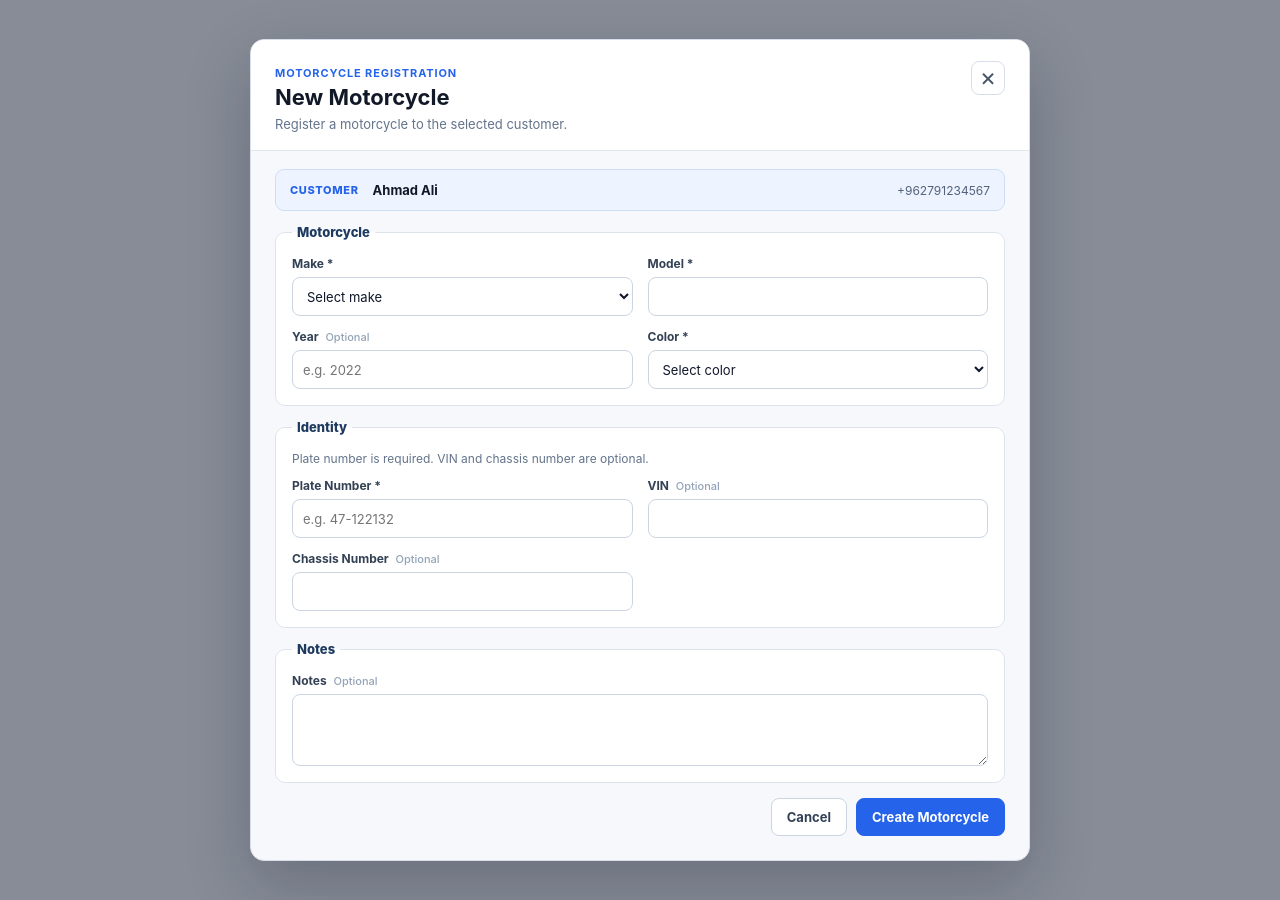
Test: NewMotorcycleDialog › rejects malformed plate ABC123 and highlights the field
The image size is (1280, 900).
Select "Honda" in the dropdown labelled "Make": (462, 297) [292,277,632,316]
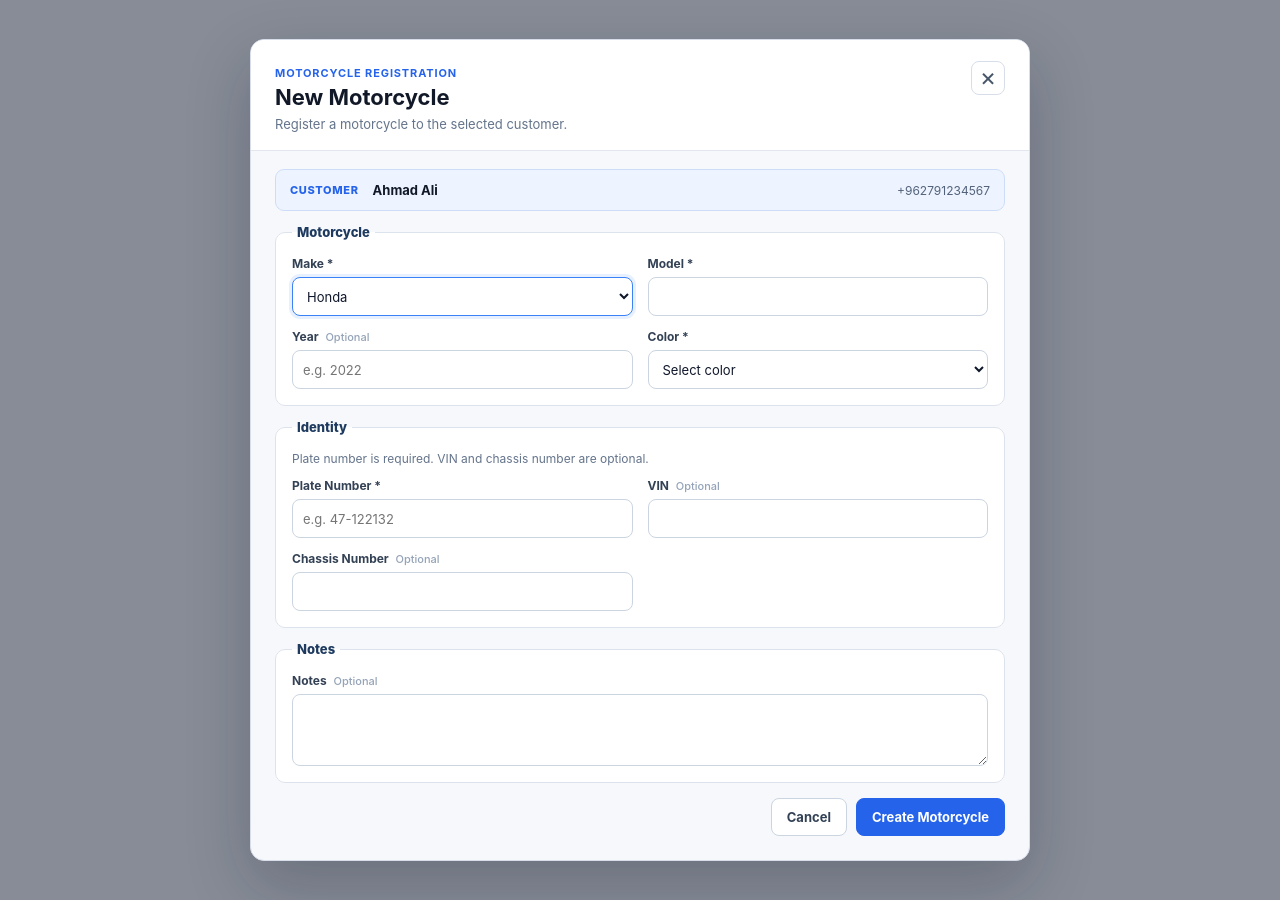
In the field labelled "Model": (818, 297) [648,277,988,316], type "CB150R"
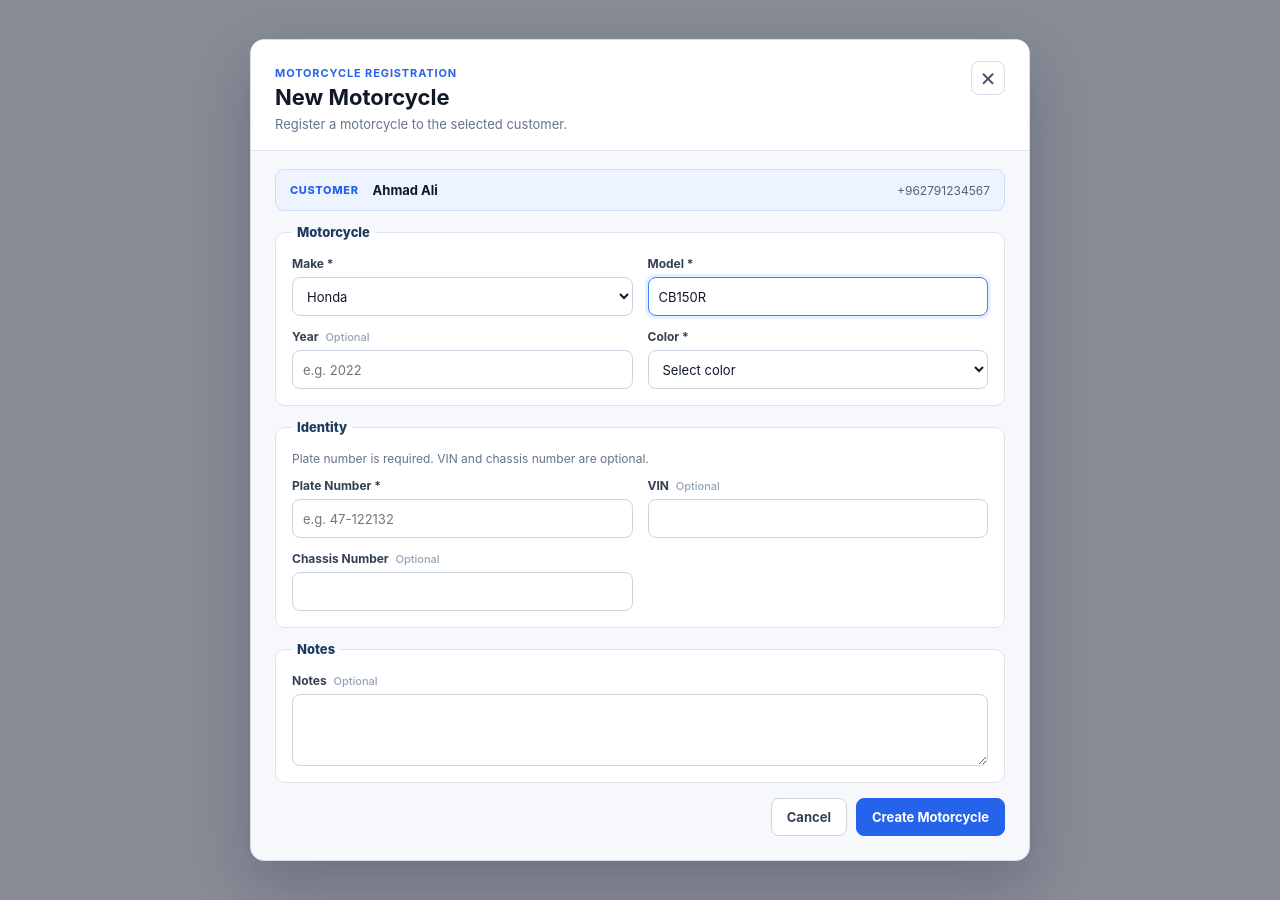
Select "Black" in the dropdown labelled "Color": (818, 370) [648,350,988,389]
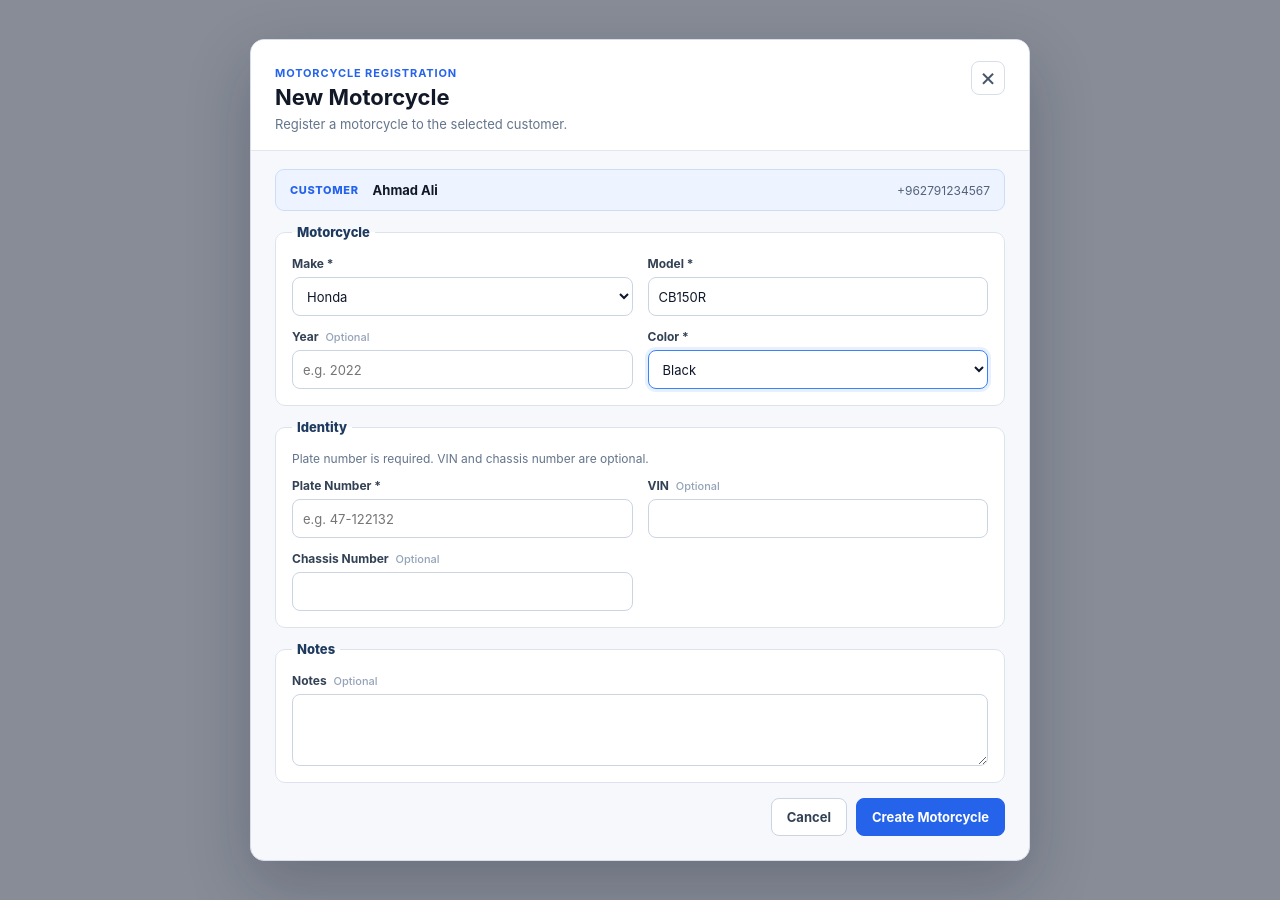
In the field labelled "Plate Number": (462, 519) [292,499,632,538], type "29-12345"
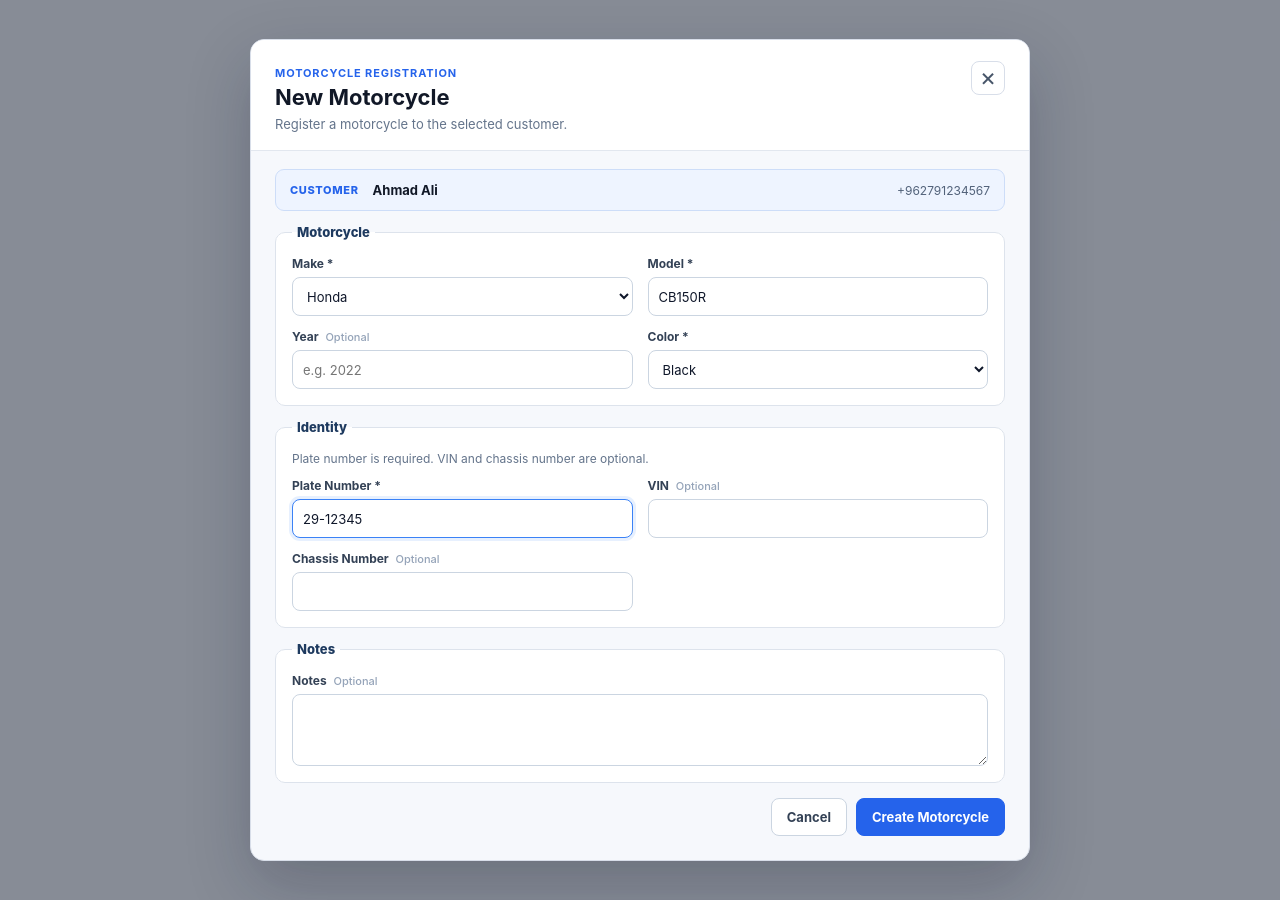
Replace the text in the field labelled "Plate Number" with "ABC123": (462, 519) [292,499,632,538]
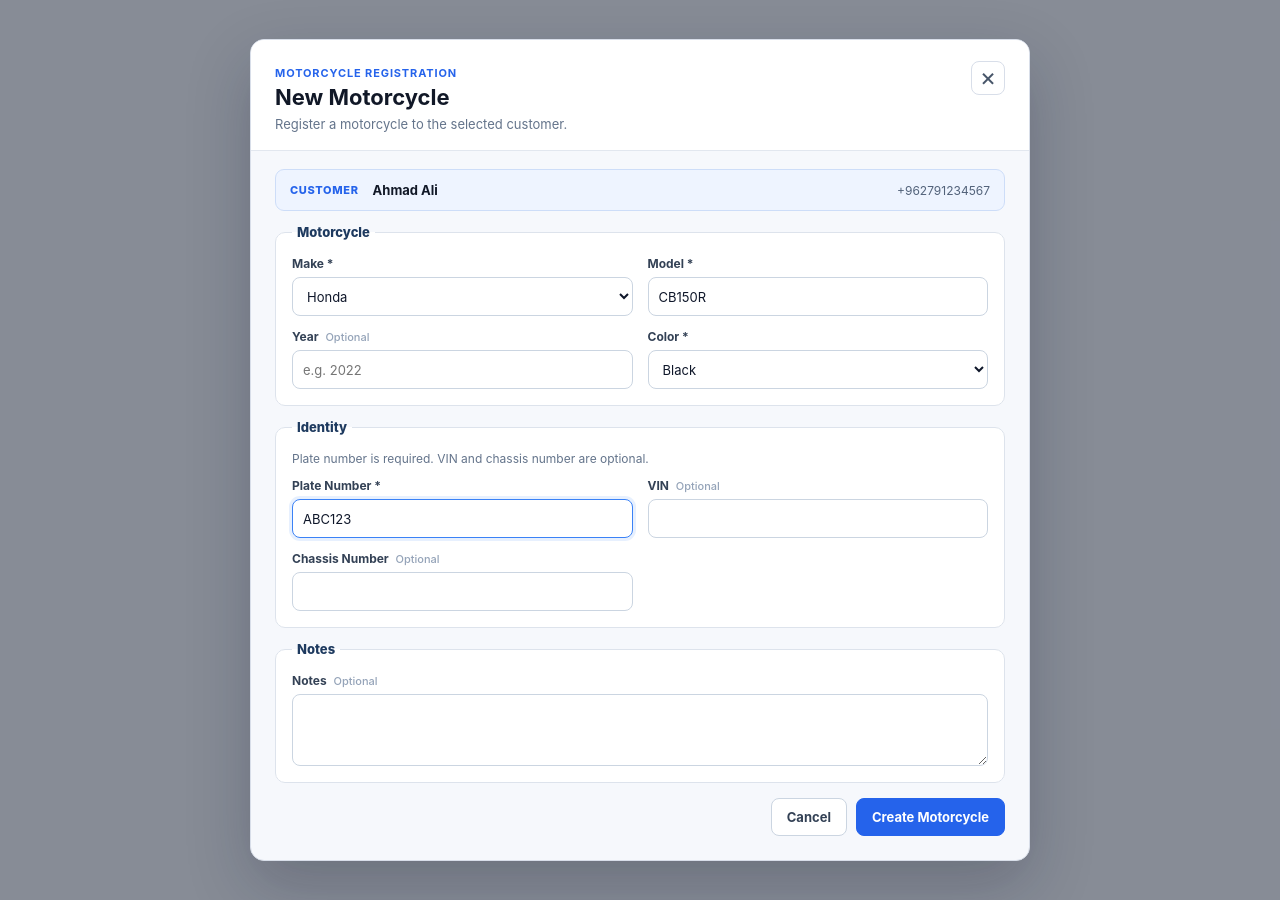
Click the button "Create Motorcycle": (930, 817) [856,798,1005,836]
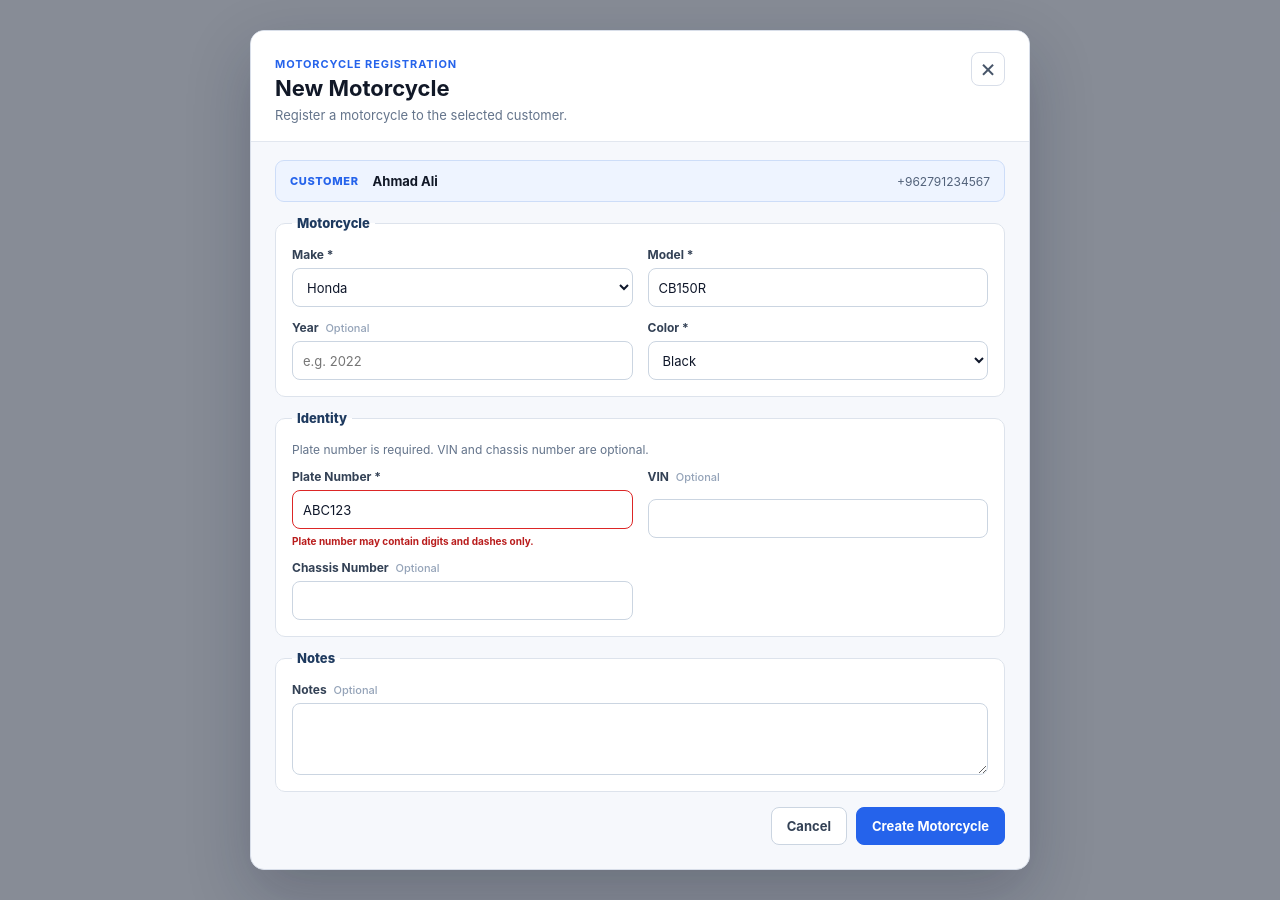
Expected: the text "Plate number may contain digits and dashes only." is shown, [292,535,534,547]
